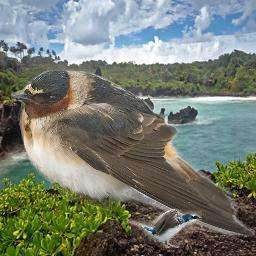Swallow: (11, 69, 255, 237), (126, 208, 202, 248)
